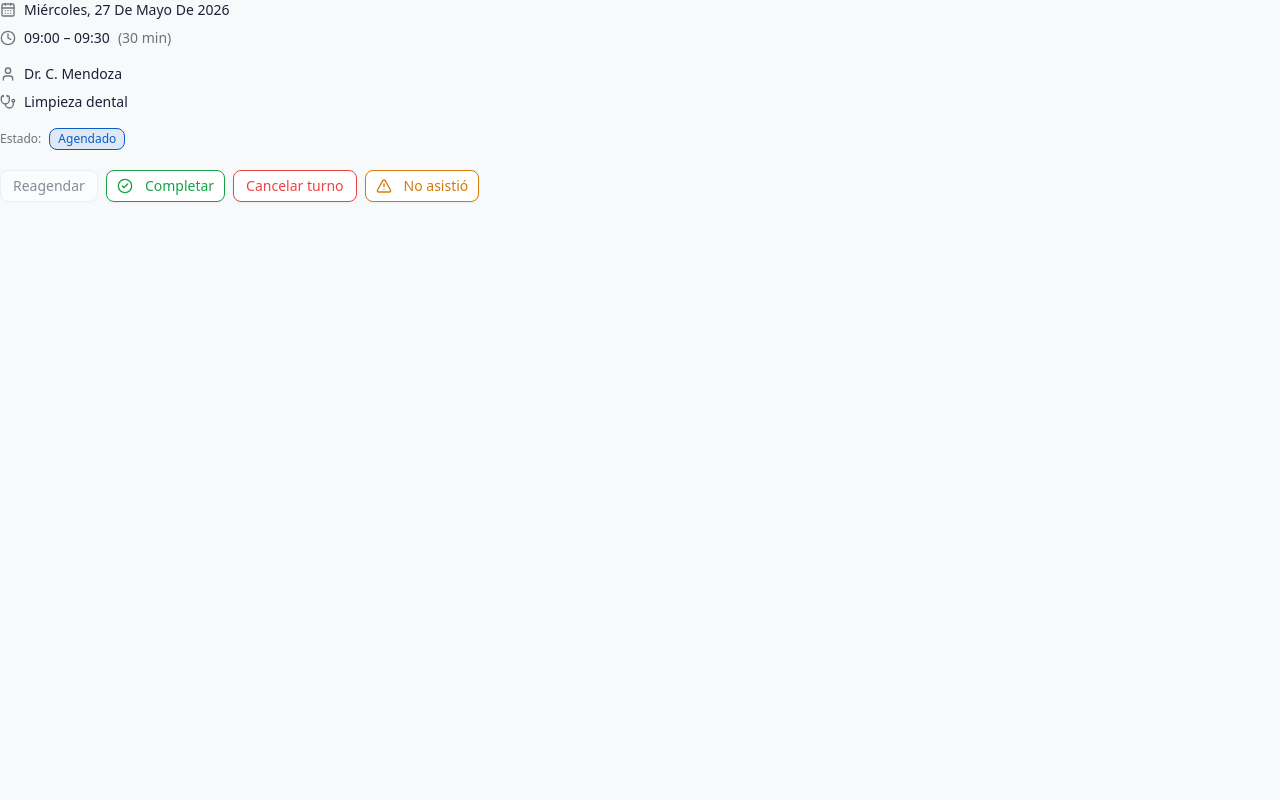
Test: AppointmentDrawerTurnoSection › 'No asistió' click opens confirm dialog (Q8)
The image size is (1280, 800).
Step 1. Click the button "No asistió" → [422, 186], box [365, 170, 479, 202]
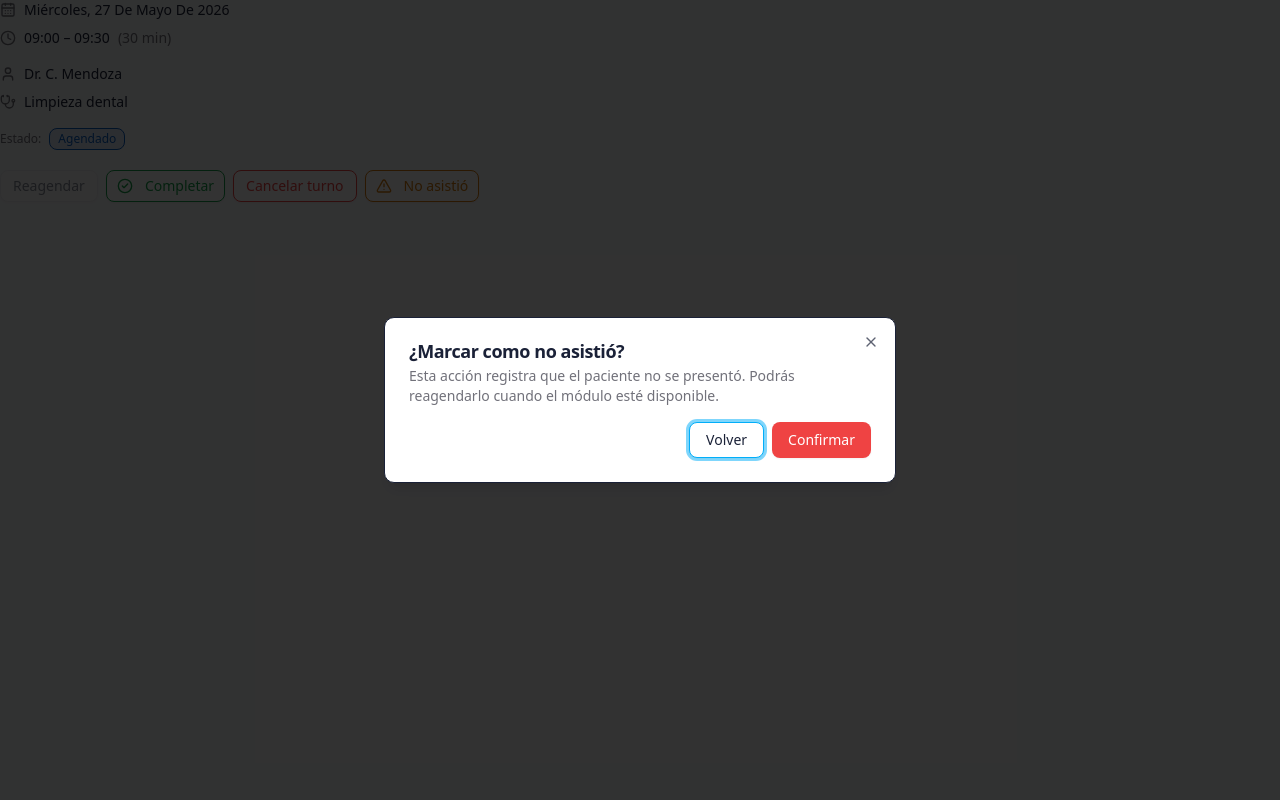
Expected: the dialog is shown, [384, 317, 896, 483]
Expected: the heading "¿Marcar como no asistió?" is shown, [409, 339, 624, 363]
